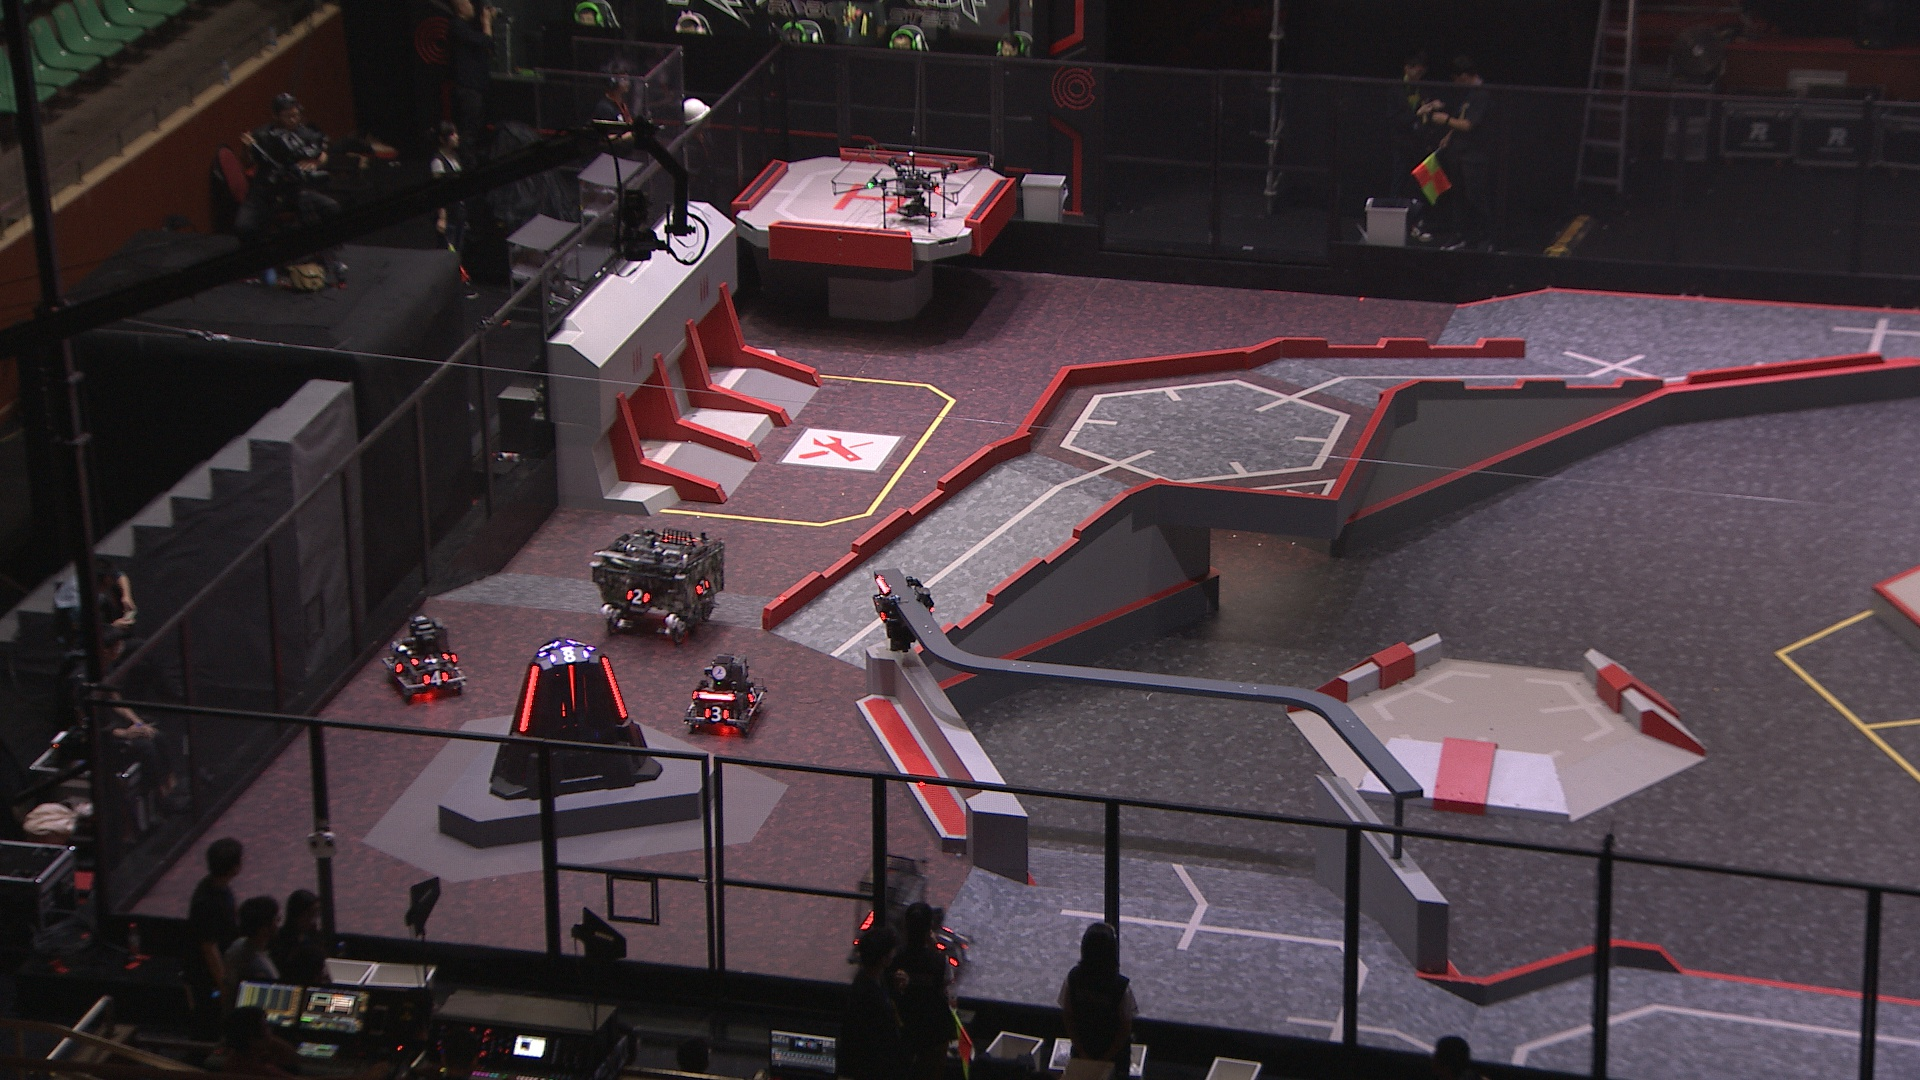armor: (600, 651, 628, 723), (517, 665, 537, 735), (410, 651, 447, 670), (872, 593, 891, 626), (624, 588, 654, 609), (564, 665, 578, 712), (419, 669, 448, 688), (704, 704, 733, 721), (951, 943, 971, 967), (935, 926, 953, 949), (746, 684, 760, 705), (698, 579, 713, 595)
base: (487, 632, 666, 796)
car: (589, 524, 731, 651), (845, 851, 975, 988), (380, 618, 468, 708), (678, 654, 770, 737)
ignore: (549, 646, 589, 665)
watcher: (869, 567, 934, 657)
